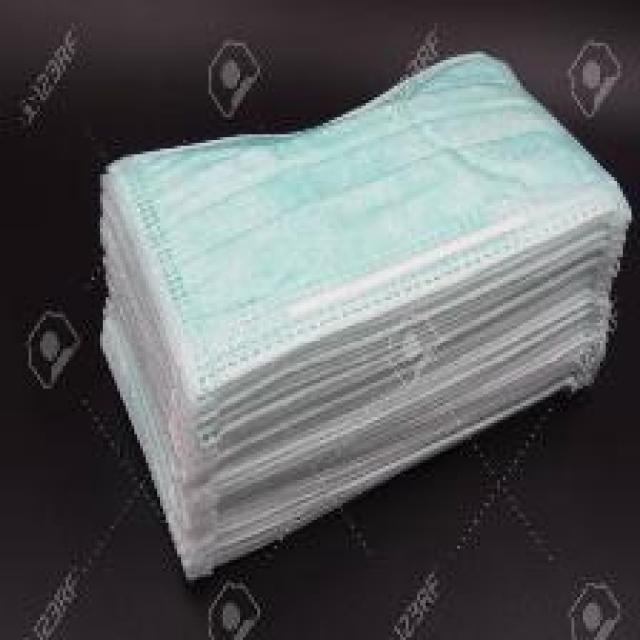Mask: (104, 74, 629, 562)
